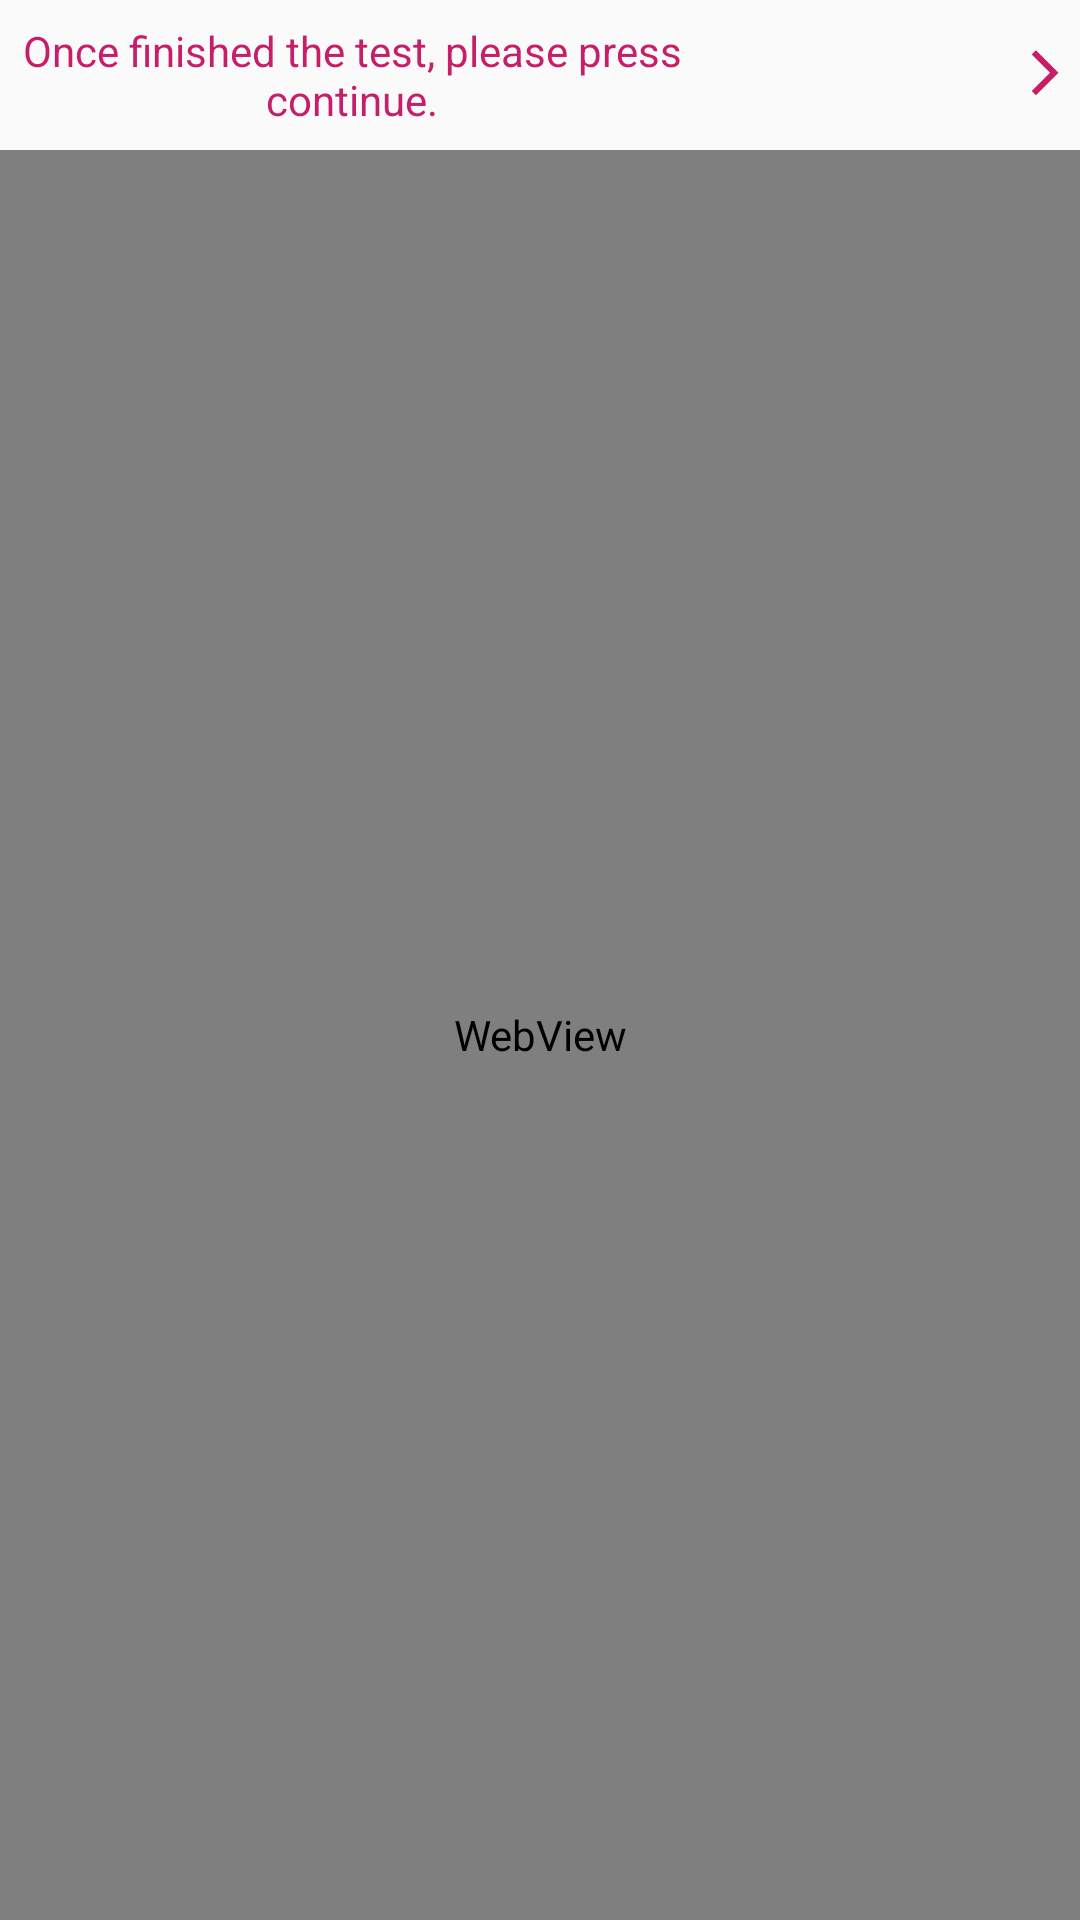

Where icons sit on this 1080x1920 app screen, as (x1, y1, x2, y2):
arrow: (1032, 50, 1059, 95)
